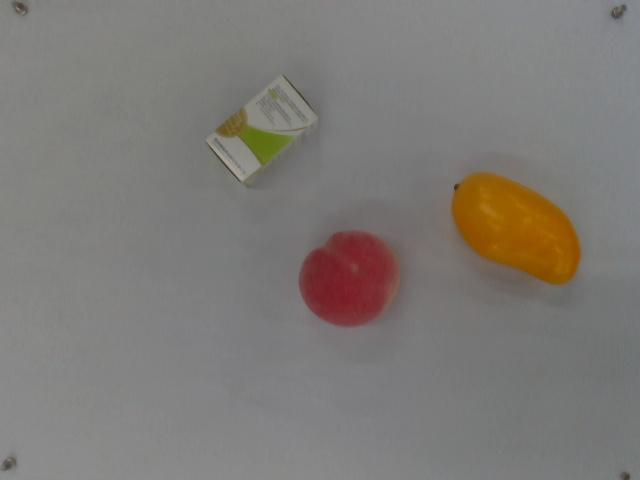carton: (200, 70, 326, 189)
mango: (449, 170, 584, 289)
peach: (295, 226, 405, 333)
